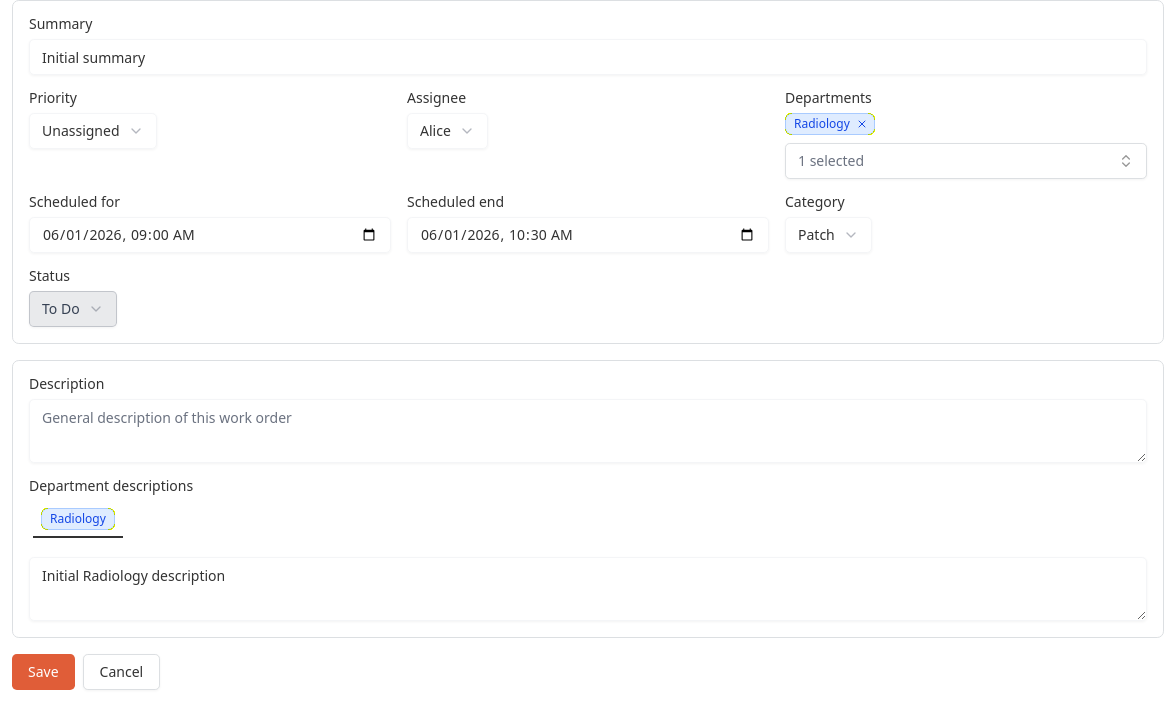
Test: TicketEditForm › scheduled end › asks for a start when the end has none
The image size is (1164, 720).
Clear the field labelled "Scheduled for" at (210, 235), box [29, 217, 391, 253]
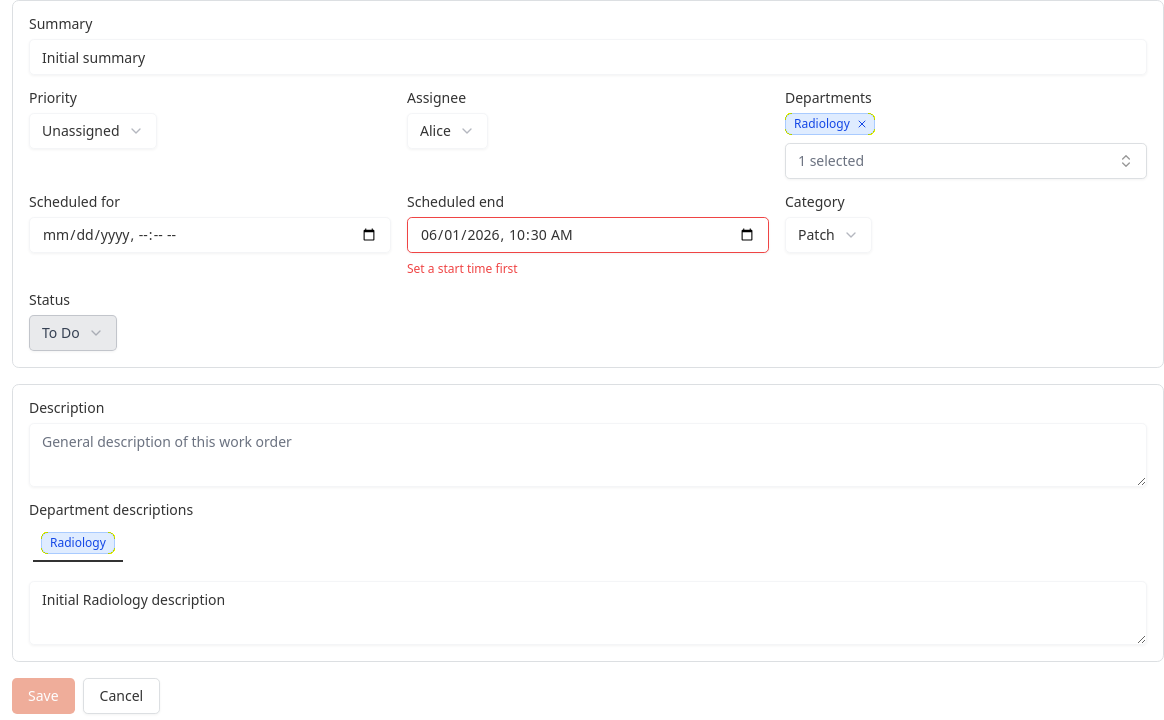
expect the text "Set a start time first" is shown: met, box [407, 260, 518, 277]
expect the button "Save" is disabled: met, box [12, 678, 75, 714]
